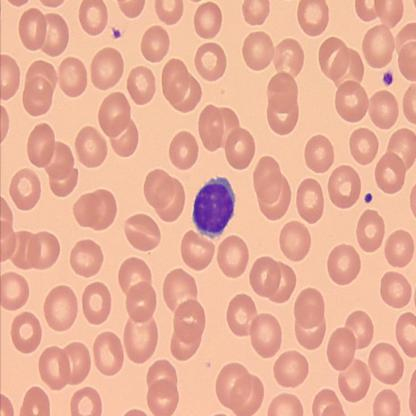Lymphocyte: (191, 176, 236, 239)
